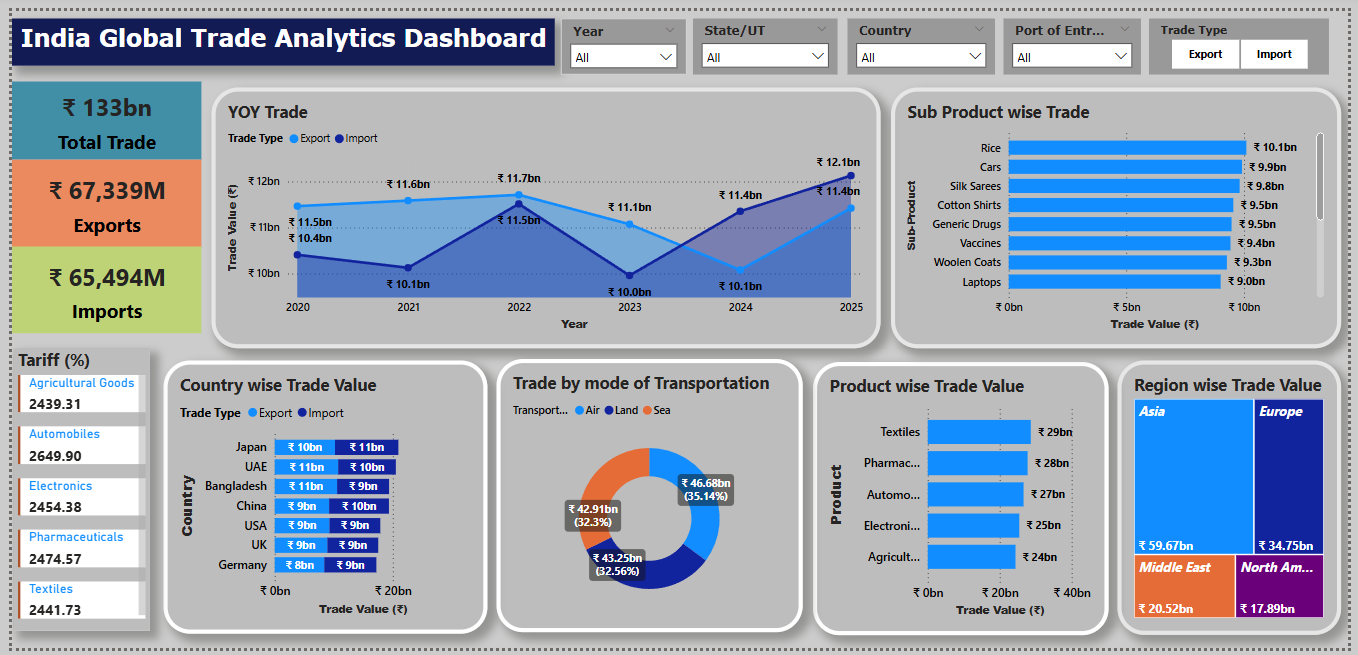

This screenshot's page, from the dashboard's own definition file:
{"tool":"powerbi","page":{"name":"Page 1","canvas":[1510,720],"ordinal":0},"visuals":[{"type":"textbox","box":[0,8.3,613.3,53.3],"z":0},{"type":"card","fields":{"Values":["Sum(Sheet1.Total Trade Value (INR))"]},"box":[0,167.3,213.7,99.4],"z":1000},{"type":"card","fields":{"Values":["Sum(Sheet1.Total Trade Value (INR))"]},"box":[0,266.7,213.7,97.7],"z":2000},{"type":"lineChart","title":"YOY Trade","fields":{"Category":["Sheet1.Year"],"Y":["Sum(Sheet1.Total Trade Value (INR))"],"Series":["Sheet1.Trade Type"]},"box":[225.4,86.4,755.9,294.9],"z":3000},{"type":"clusteredBarChart","title":"Product wise Trade Value","fields":{"Category":["Sheet1.Product"],"Y":["Sum(Sheet1.Total Trade Value (INR))"]},"box":[905.1,396.6,333.9,308.5],"z":4000},{"type":"barChart","title":"Country wise Trade Value","fields":{"Category":["Sheet1.Country"],"Y":["Sum(Sheet1.Total Trade Value (INR))"],"Series":["Sheet1.Trade Type"]},"box":[171.2,394.9,366.1,308.5],"z":5000},{"type":"card","title":"Total Trade","fields":{"Values":["Sum(Sheet1.Total Trade Value (INR))"]},"box":[0,79.5,213.7,87.8],"z":6000},{"type":"barChart","title":"Sub Product wise Trade","fields":{"Category":["Sheet1.Sub-Product"],"Y":["Sum(Sheet1.Total Trade Value (INR))"]},"box":[993.2,86.4,508.5,294.9],"z":7000},{"type":"multiRowCard","title":"Tariff (%)","fields":{"Values":["Sheet1.Commodity Category","Sum(Sheet1.Tariff (%))"]},"box":[1.7,381.4,154.2,318.6],"z":8000},{"type":"donutChart","title":"Trade by mode of Transportation","fields":{"Category":["Sheet1.Transportation Mode"],"Y":["Sum(Sheet1.Total Trade Value (INR))"]},"box":[547.5,393.2,345.8,308.5],"z":9000},{"type":"slicer","fields":{"Values":["Sheet1.Country"]},"box":[943.3,8.3,166.7,63.3],"z":10000},{"type":"slicer","fields":{"Values":["Sheet1.Year"]},"box":[620,8.3,141.7,63.3],"z":11000},{"type":"slicer","fields":{"Values":["Sheet1.State/UT"]},"box":[770,8.3,163.3,63.3],"z":12000},{"type":"slicer","fields":{"Values":["Sheet1.Port of Entry/Exit"]},"box":[1120,8.3,155,63.3],"z":13000},{"type":"slicer","fields":{"Values":["Sheet1.Trade Type"]},"box":[1285,8.3,203.3,63.3],"z":14000},{"type":"treemap","title":"Region wise Trade Value","fields":{"Values":["Sum(Sheet1.Total Trade Value (INR))"],"Group":["Sheet1.Region"]},"box":[1249.2,394.9,252.5,310.2],"z":15000}]}

Visuals, with their boxes in screenshot pixels (x1, y1, x2, y2), scaled from the page's 1510x720 canvas onto the 1358x655 screenshot:
textbox: <region>0, 8, 552, 56</region>
card - Sum(Sheet1.Total Trade Value (INR)): <region>0, 152, 192, 243</region>
card - Sum(Sheet1.Total Trade Value (INR)): <region>0, 243, 192, 332</region>
"YOY Trade" lineChart: <region>203, 79, 883, 347</region>
"Product wise Trade Value" clusteredBarChart: <region>814, 361, 1114, 641</region>
"Country wise Trade Value" barChart: <region>154, 359, 483, 640</region>
"Total Trade" card: <region>0, 72, 192, 152</region>
"Sub Product wise Trade" barChart: <region>893, 79, 1351, 347</region>
"Tariff (%)" multiRowCard: <region>2, 347, 140, 637</region>
"Trade by mode of Transportation" donutChart: <region>492, 358, 803, 638</region>
slicer - Sheet1.Country: <region>848, 8, 998, 65</region>
slicer - Sheet1.Year: <region>558, 8, 685, 65</region>
slicer - Sheet1.State/UT: <region>692, 8, 839, 65</region>
slicer - Sheet1.Port of Entry/Exit: <region>1007, 8, 1147, 65</region>
slicer - Sheet1.Trade Type: <region>1156, 8, 1338, 65</region>
"Region wise Trade Value" treemap: <region>1123, 359, 1351, 641</region>
